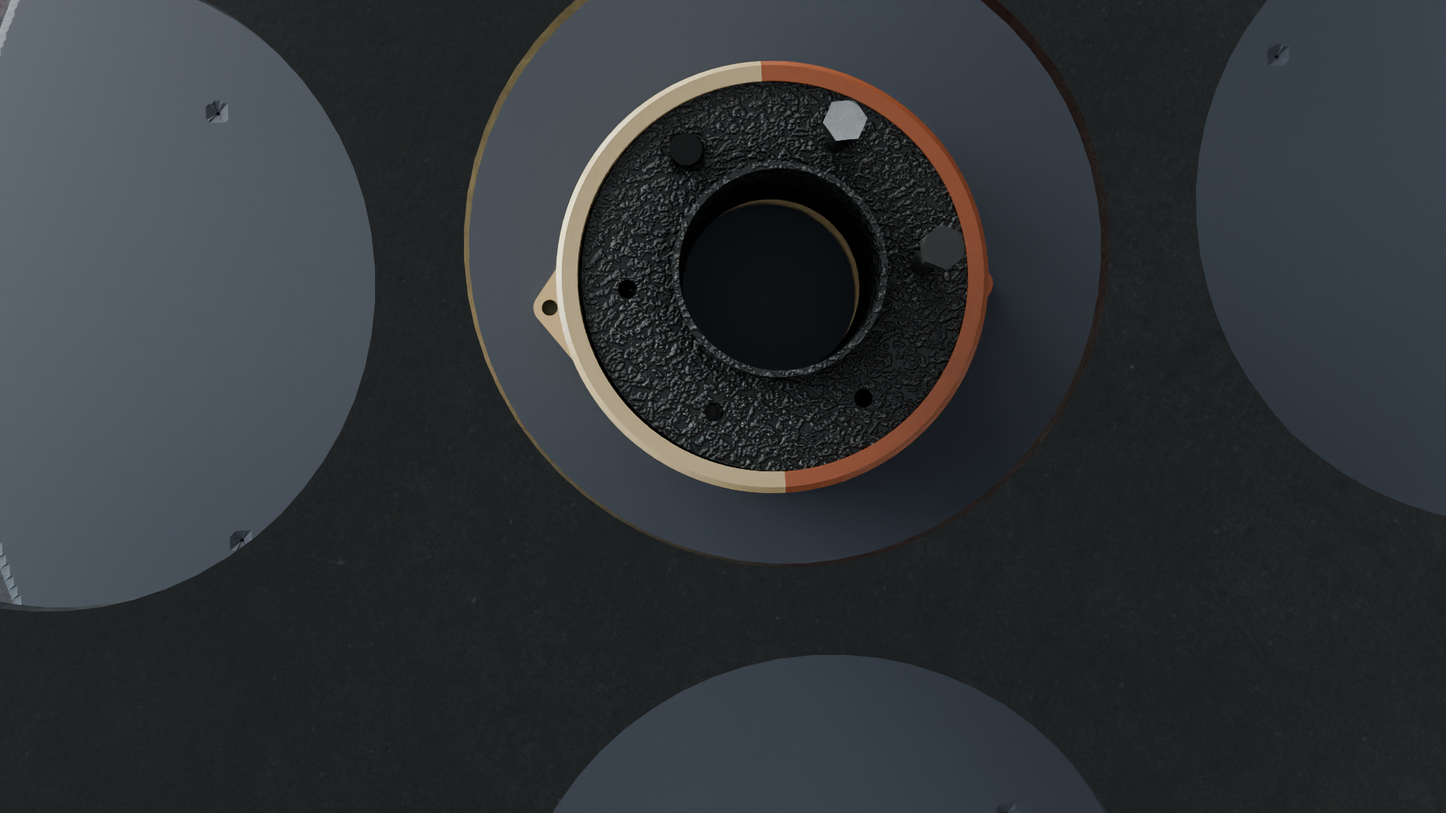bolt: (923, 224, 966, 270), (823, 100, 868, 141), (669, 132, 704, 169)
